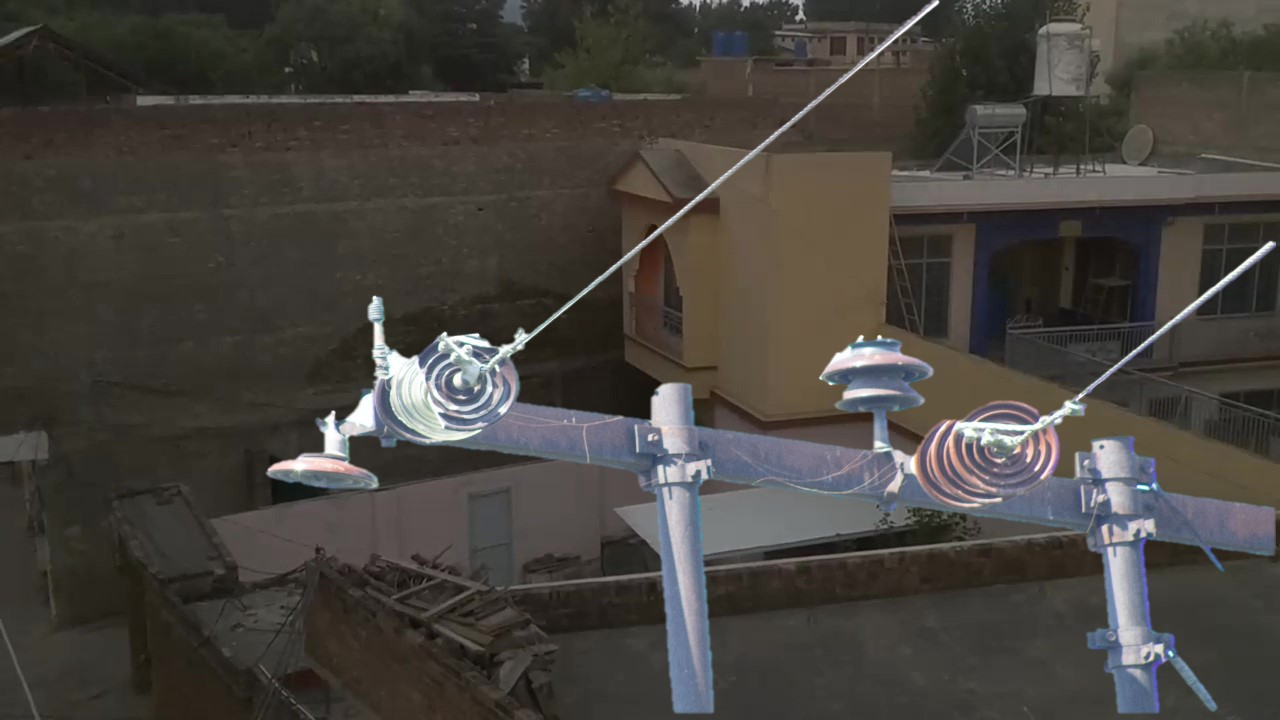defect_disc: (415, 322, 528, 436)
insulator_disc: (944, 391, 1063, 501), (259, 442, 388, 504)
